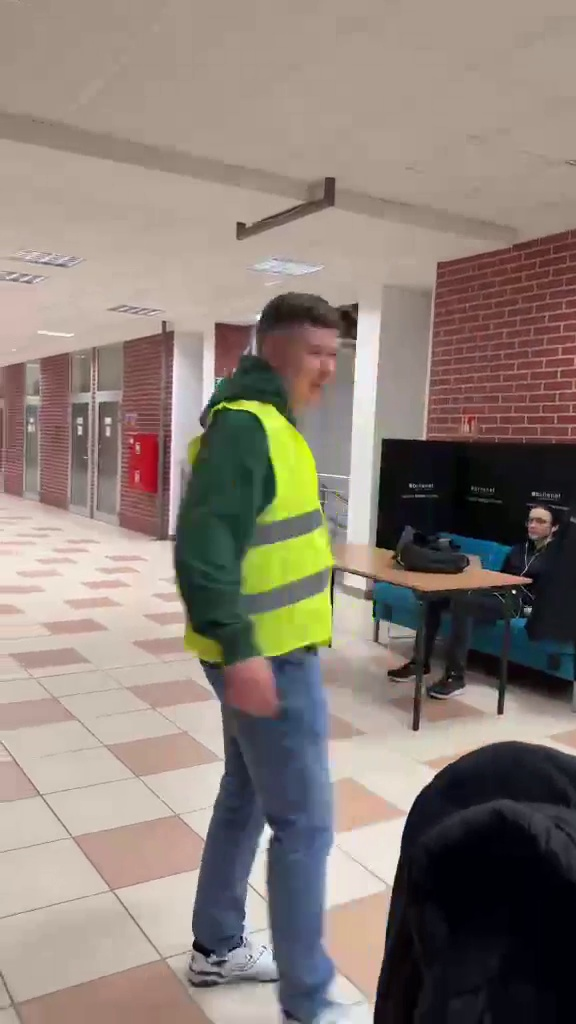no vest: (433, 493, 563, 646)
vest: (177, 285, 390, 1023)
